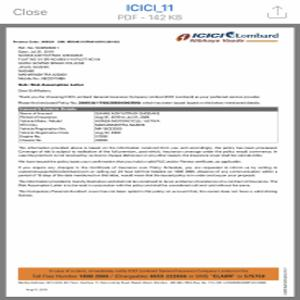image: (175, 32, 281, 46)
table: (19, 107, 280, 144)
text: (12, 39, 263, 105), (16, 146, 278, 199)
